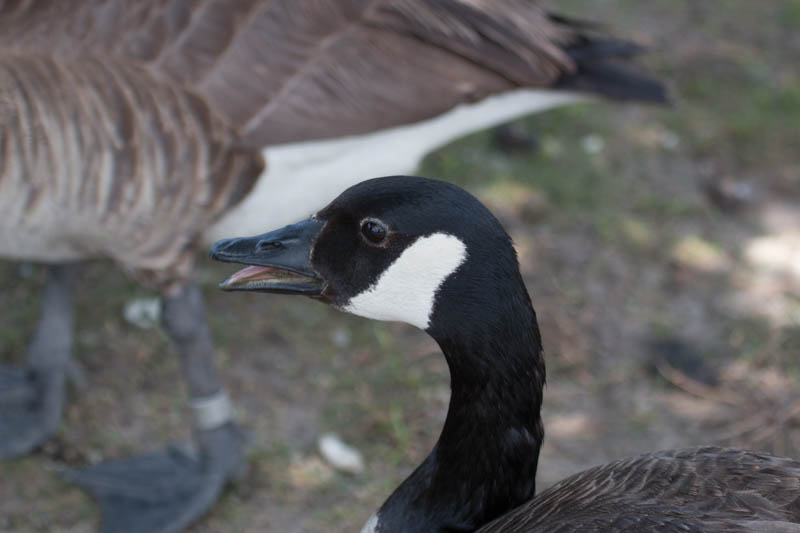goose-head: (208, 176, 538, 332)
